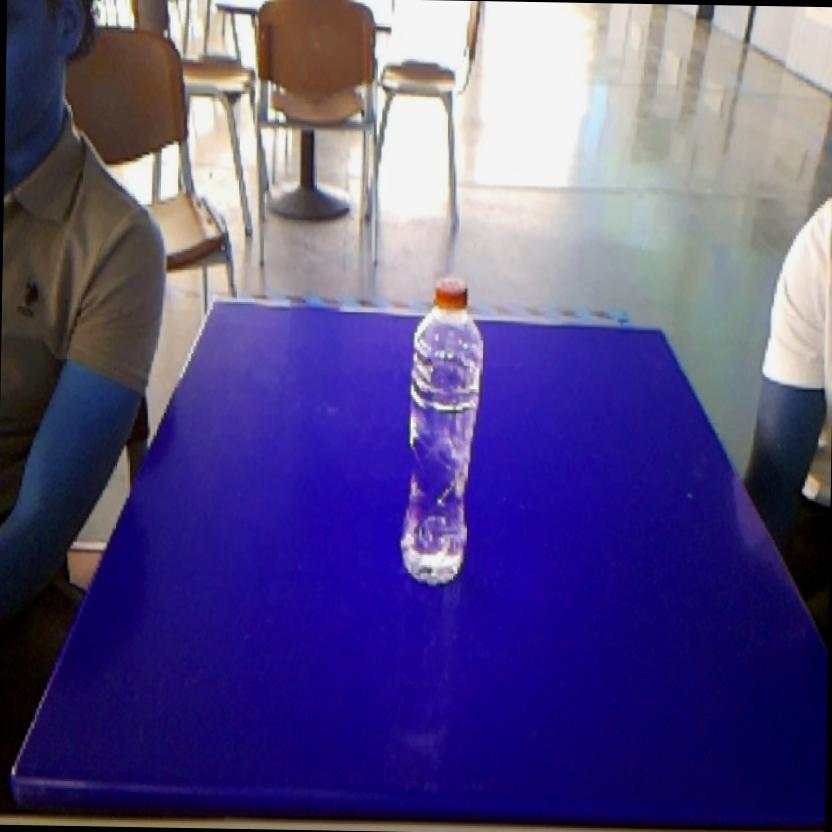no_label: (392, 266, 491, 594)
